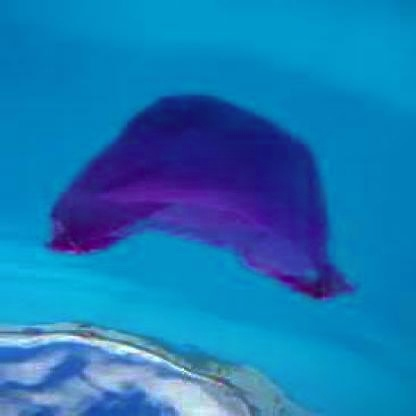pbag: (43, 92, 362, 304)
